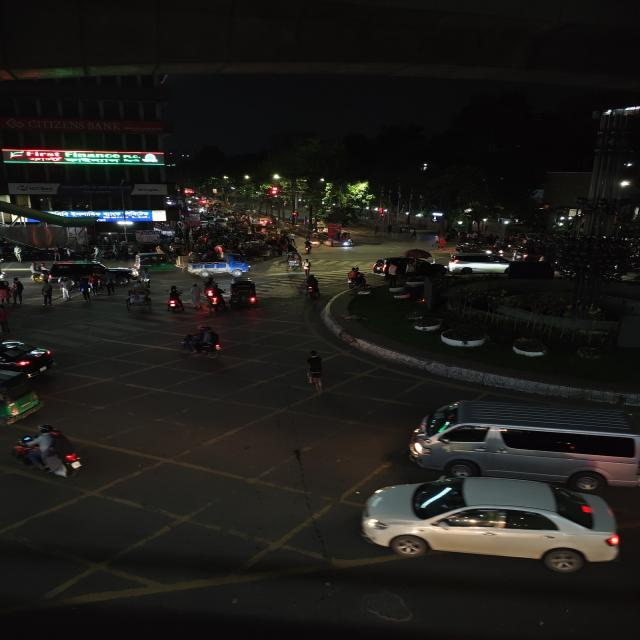car: (359, 471, 625, 579), (408, 396, 639, 492), (0, 342, 61, 381), (50, 262, 136, 285), (442, 249, 511, 272)
cng: (0, 370, 45, 427), (228, 279, 263, 311), (131, 251, 174, 271)
motorcycle: (10, 422, 88, 478), (176, 325, 229, 362), (164, 284, 186, 315), (203, 282, 225, 312), (343, 266, 370, 290)
pedestrian: (296, 347, 333, 396), (300, 273, 322, 301), (9, 276, 26, 306), (38, 280, 56, 306), (58, 276, 76, 302), (188, 283, 202, 312), (76, 279, 94, 301), (286, 251, 302, 271), (299, 256, 314, 275), (410, 226, 419, 242), (431, 233, 440, 248), (436, 238, 447, 250)
pickup_van: (189, 254, 255, 275)
rickshaw: (124, 283, 152, 312), (339, 231, 357, 249)
